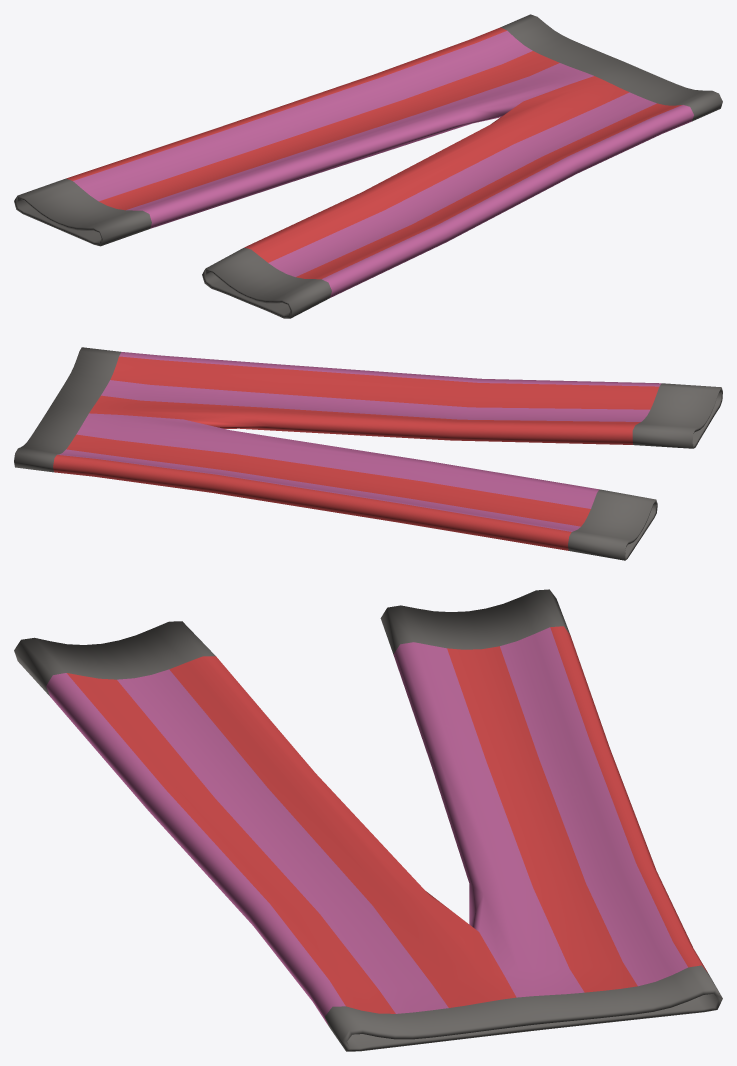
The model's file is PantsPhysics.fbx.
3 renders of one model, top to bottom at view 1: azimuth 30°, elevation 25°; view 2: azimuth 150°, elevation 25°; view 3: azimuth 270°, elevation 25°, orthographic. The views are drawn at different scales.
Visible parts, largest first — view 1: Pants.001; view 2: Pants.001; view 3: Pants.001.
Part boxes in pixels (x1,y1,x2,y2): Pants.001: (14, 14, 722, 318); Pants.001: (14, 347, 722, 560); Pants.001: (14, 589, 722, 1051).
Size of the model in its own units: 1423 by 52.18 by 966.
Materials: 1 (1 with a texture image).
